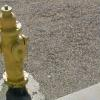Hydrant: (2, 2, 35, 100)
